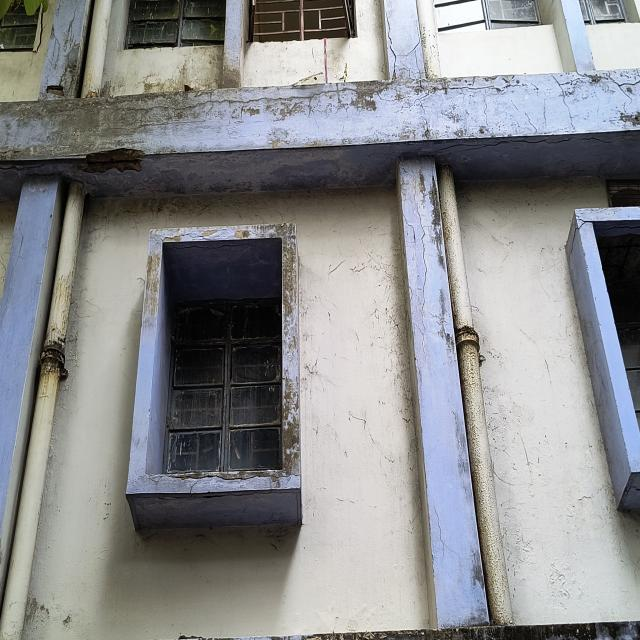Corrosion: (40, 347, 67, 379)
Crack: (112, 87, 356, 119), (413, 171, 428, 357), (432, 136, 574, 154), (576, 72, 640, 107), (410, 83, 496, 108), (135, 491, 296, 501), (550, 74, 578, 127), (157, 472, 300, 482), (384, 6, 398, 81), (0, 162, 62, 178), (31, 1, 49, 56), (568, 218, 593, 257), (46, 32, 60, 83), (58, 44, 74, 86), (580, 135, 640, 145), (67, 70, 74, 97)
Moss growth due to damping: (93, 46, 249, 97)
Paint Peeling: (141, 222, 300, 476)
Scaling: (46, 85, 64, 96)
Spalling: (86, 149, 141, 172)
pollution -moisture induced blackening: (0, 69, 640, 200)
